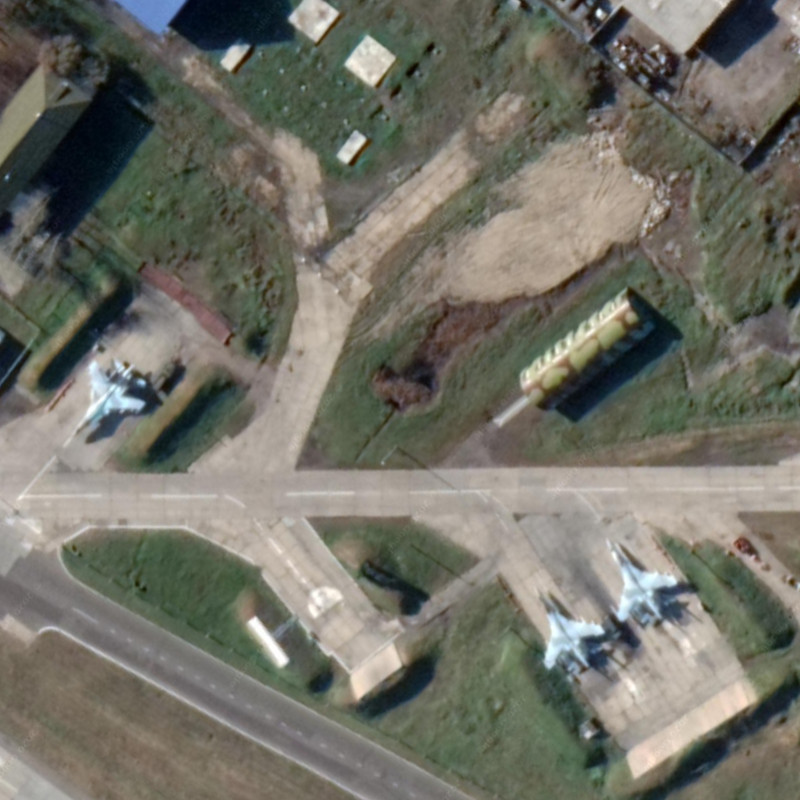A1: (527, 581, 612, 686), (598, 538, 693, 631), (69, 353, 152, 439)
